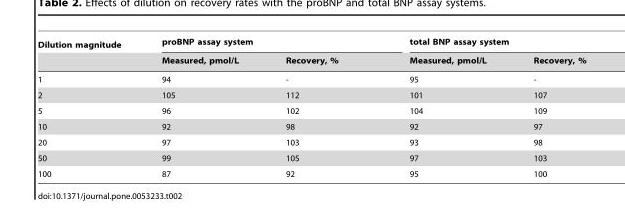table: (37, 37, 585, 178)
table column: (373, 37, 509, 178), (140, 37, 261, 178), (261, 37, 373, 178), (37, 37, 140, 178), (509, 37, 585, 178)
table column header: (37, 37, 585, 69)
table row: (37, 69, 585, 87), (37, 52, 585, 69), (37, 102, 585, 118), (37, 118, 585, 134), (37, 134, 585, 150), (37, 37, 585, 52), (37, 87, 585, 102), (37, 150, 585, 165), (37, 165, 585, 178)
table spanning cell: (140, 37, 373, 52), (37, 37, 140, 69), (373, 37, 585, 52)
